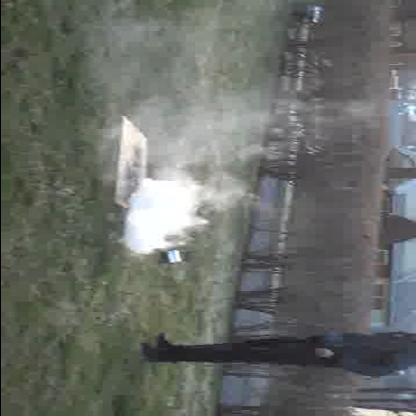Smoke: (122, 174, 224, 252)
